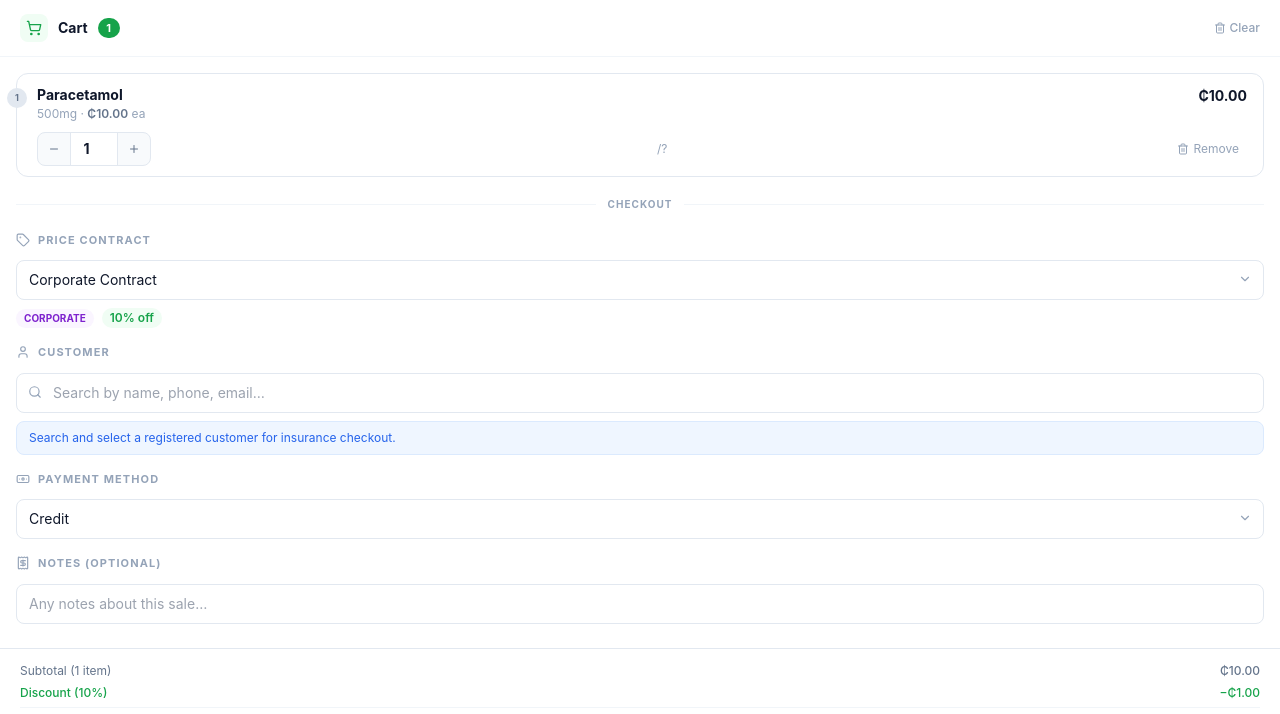
Test: CartPanel customer search › shows local customers when backend is known unreachable (browser online)
In the field with placeholder "Search by name, phone, email…": (640, 392) [16,372,1264,412], type "fallback"
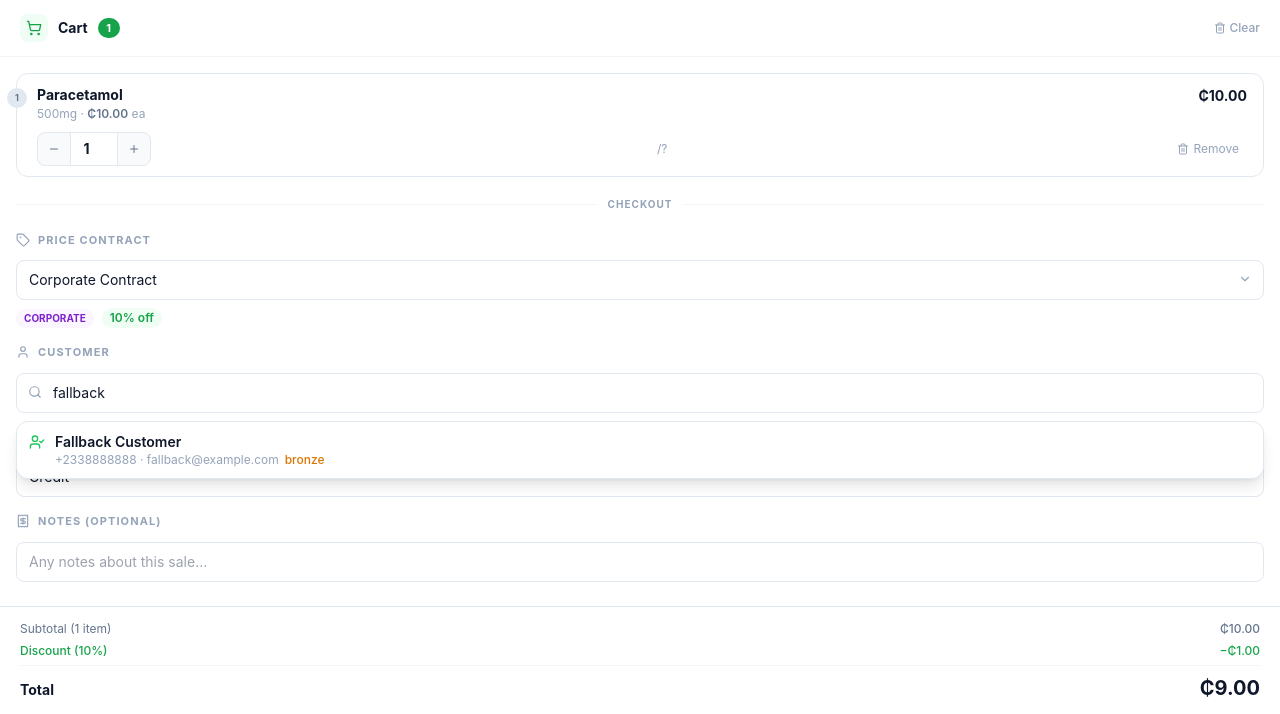
Now the text "Fallback Customer" is shown, box [55,432,181,450]
Now the text "+2338888888" is shown, box [55,452,279,466]
